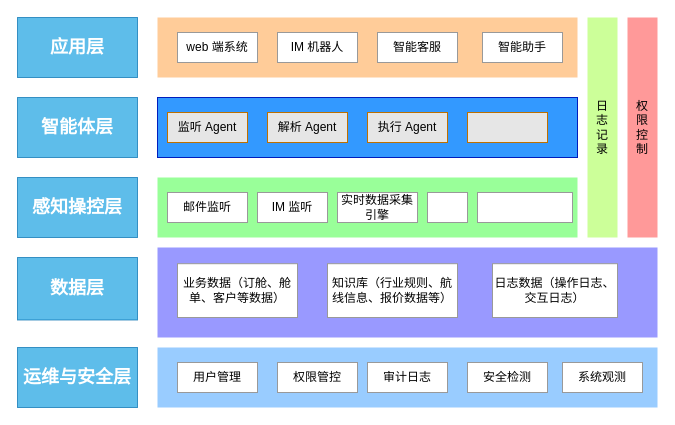
Some shapes in this 675 by 425 pixel diagram are drawn without their labels. The centre of each missing label's shape, as x and y in pixels:
交互 Agent: pixel 507 127
爬虫: pixel 447 207
网络请求执行和浏览器控制: pixel 524 207
